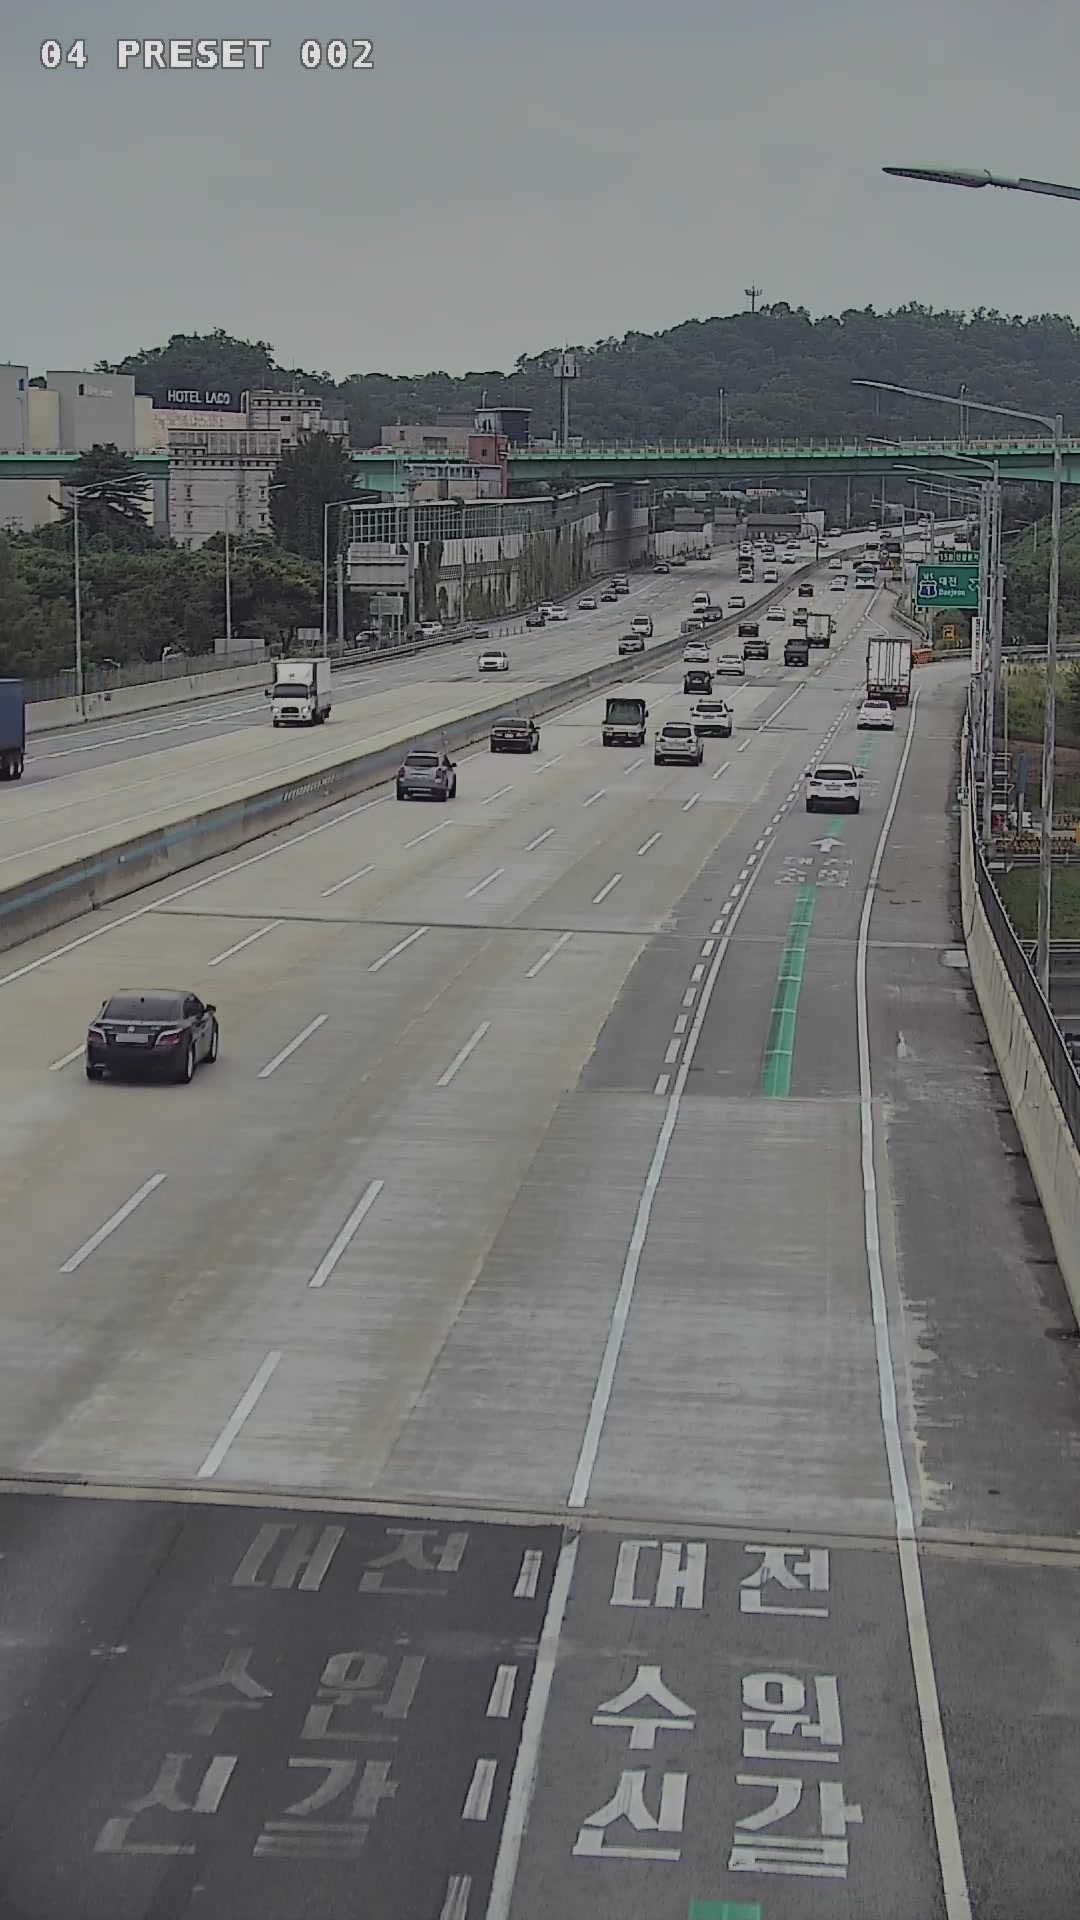Scissors: (76, 986, 207, 1087)
